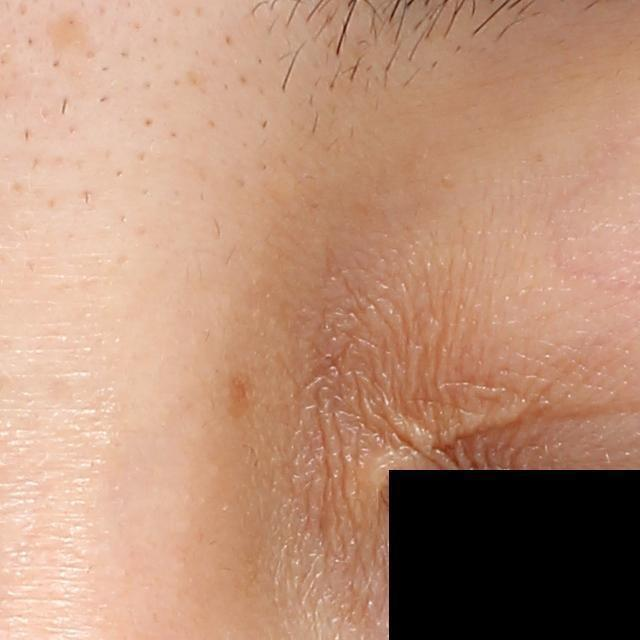melasma: (229, 367, 258, 418)
